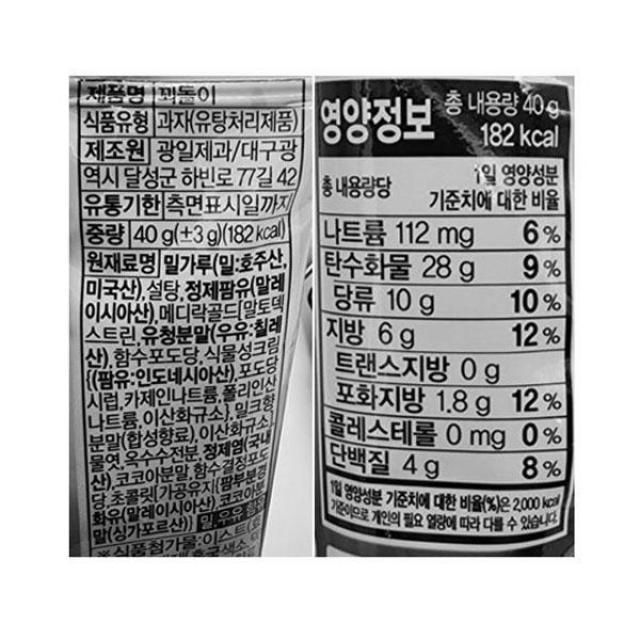Nutrition Label: (307, 73, 583, 559)
